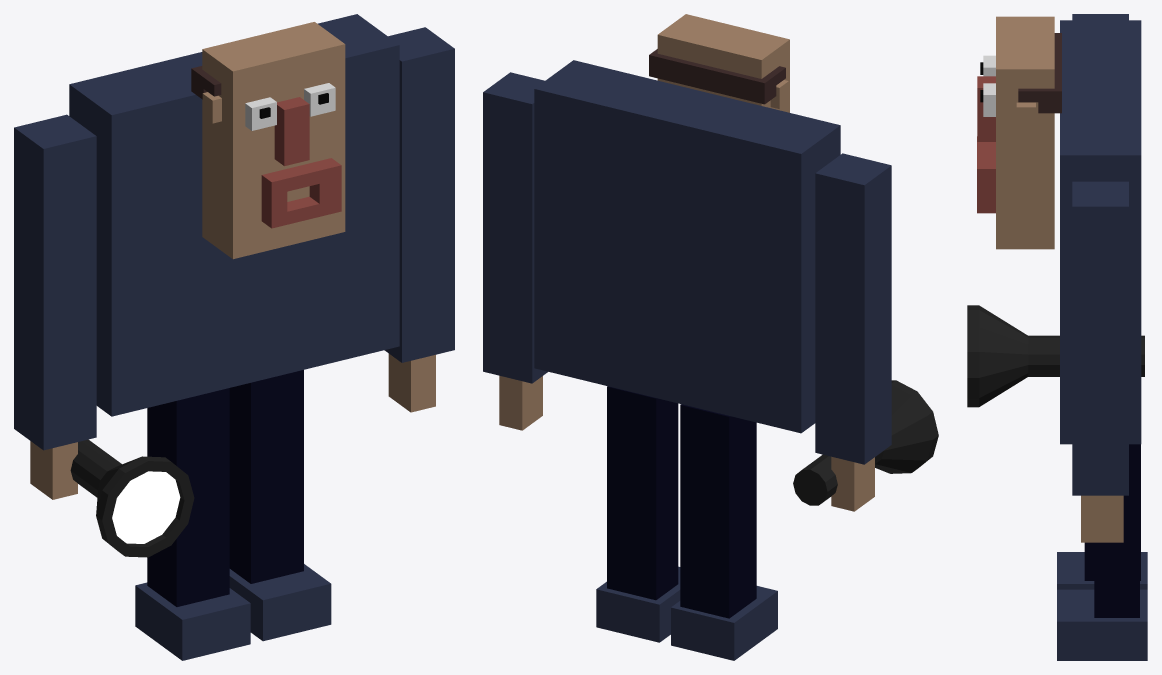
File: Man.glb
3 views of the same model, side by side, from view 1: azimuth 30°, elevation 25°; view 2: azimuth 150°, elevation 25°; view 3: azimuth 270°, elevation 25° (orthographic). The views are drawn at different scales.
Parts seen in each view (by area): view 1: Cube, Cube.003, Cube.001, Cube.002, Cube.004, Cube.005, Cylinder, Cube.011, Cube.012, Cube.016, Cube.009, Cube.010 (+4 smaller); view 2: Cube, Cube.003, Cube.002, Cube.005, Cube.004, Cube.001, Cylinder, Cube.011, Cube.012, Cube.013, Cube.009, Cube.010; view 3: Cube, Cube.002, Cube.001, Cylinder, Cube.012, Cube.004, Cube.009, Cube.011, Cube.016, Cube.013, Cube.008, Cube.005 (+4 smaller).
Boxes of the visible parts, bbox=[...] form: Cube: bbox=[69, 14, 399, 416]; Cube.003: bbox=[14, 114, 96, 450]; Cube.001: bbox=[202, 22, 345, 259]; Cube.002: bbox=[384, 27, 454, 362]; Cube.004: bbox=[229, 370, 303, 583]; Cube.005: bbox=[147, 388, 229, 606]; Cylinder: bbox=[70, 439, 194, 557]; Cube.011: bbox=[135, 582, 250, 660]; Cube.012: bbox=[229, 564, 331, 641]; Cube.016: bbox=[261, 158, 341, 228]; Cube.009: bbox=[388, 353, 435, 412]; Cube.010: bbox=[30, 441, 77, 499]; Cube: bbox=[534, 60, 840, 433]; Cube.003: bbox=[815, 153, 891, 464]; Cube.002: bbox=[483, 72, 547, 383]; Cube.005: bbox=[680, 404, 756, 618]; Cube.004: bbox=[607, 386, 678, 600]; Cube.001: bbox=[657, 14, 789, 112]; Cylinder: bbox=[793, 380, 938, 505]; Cube.011: bbox=[671, 586, 777, 660]; Cube.012: bbox=[596, 566, 680, 642]; Cube.013: bbox=[649, 49, 785, 104]; Cube.009: bbox=[499, 375, 542, 430]; Cube.010: bbox=[831, 456, 874, 511]; Cube: bbox=[1060, 20, 1141, 444]; Cube.002: bbox=[1072, 181, 1128, 495]; Cube.001: bbox=[996, 16, 1054, 249]; Cylinder: bbox=[967, 305, 1144, 407]; Cube.012: bbox=[1057, 589, 1147, 660]; Cube.004: bbox=[1094, 444, 1139, 617]; Cube.009: bbox=[1081, 495, 1123, 542]; Cube.011: bbox=[1057, 552, 1147, 589]; Cube.016: bbox=[977, 136, 995, 213]; Cube.013: bbox=[1018, 33, 1061, 113]; Cube.008: bbox=[977, 76, 995, 141]; Cube.005: bbox=[1084, 444, 1140, 580].
Bounding box in the file's own units: 2.86 × 4.04 × 1.13.
